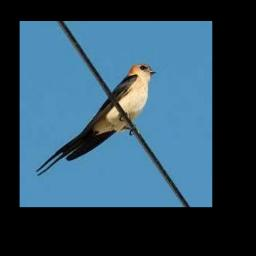Swallow: (35, 63, 157, 177)
